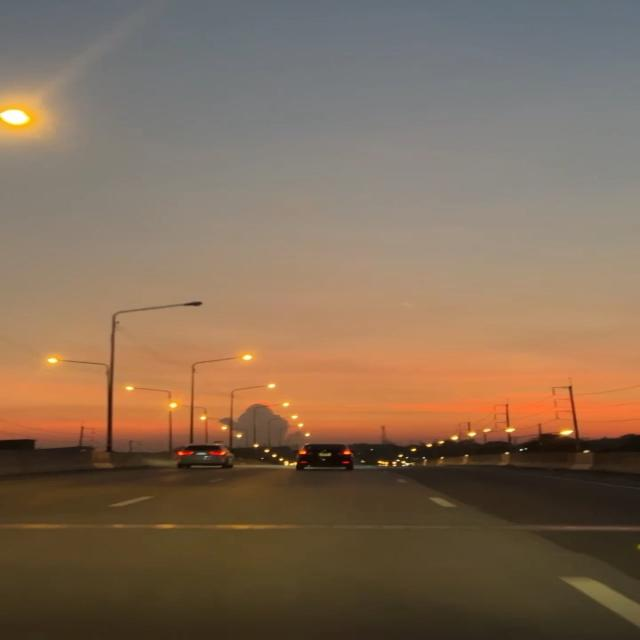Poth-hole: (55, 463, 441, 610)
